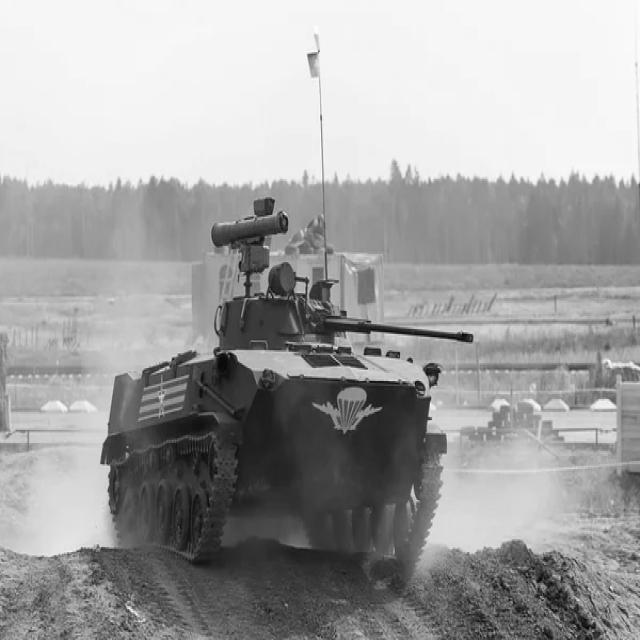Tank: (102, 192, 474, 562)
